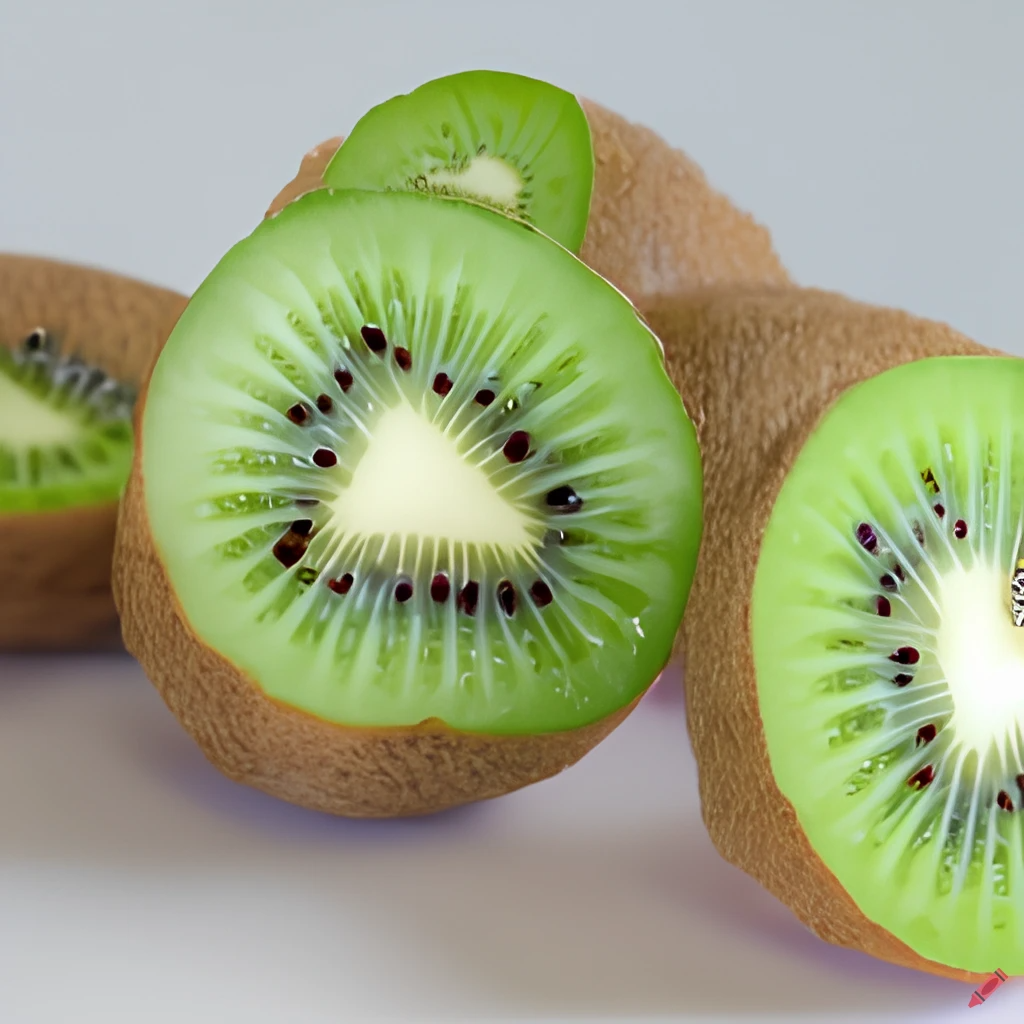Kiwi: (115, 184, 684, 848)
